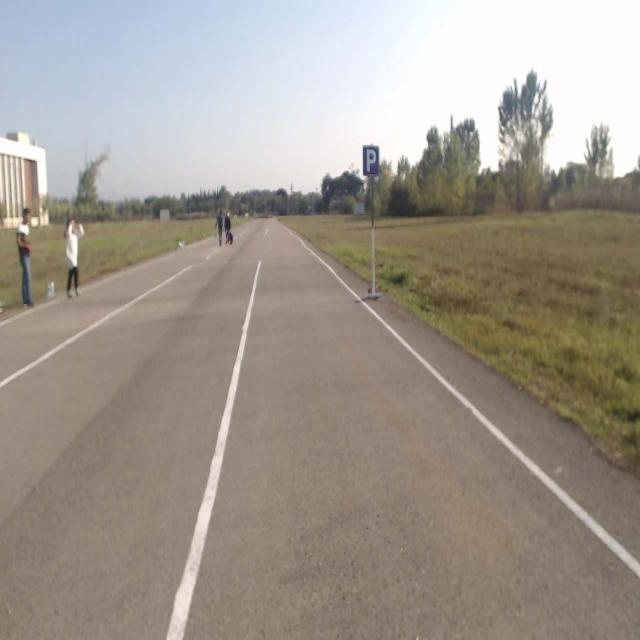park: (362, 145, 380, 175)
